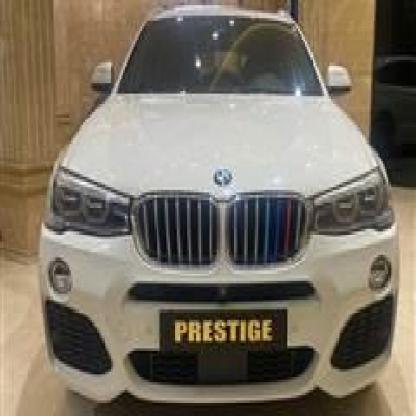Car: (35, 5, 397, 416)
